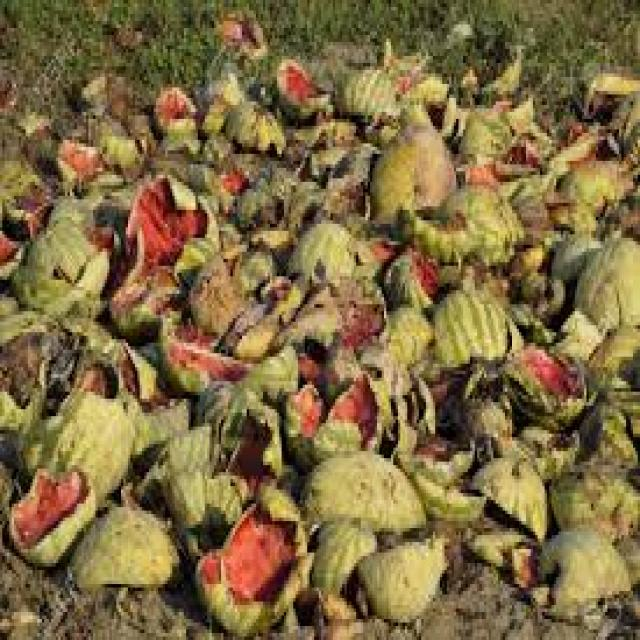organic waste: (188, 476, 312, 636), (5, 374, 126, 518), (505, 521, 626, 619), (65, 493, 189, 588), (296, 455, 424, 542), (126, 413, 210, 542), (121, 172, 216, 284), (284, 360, 384, 462), (2, 455, 96, 563), (274, 280, 354, 406), (365, 112, 454, 224), (461, 437, 552, 546), (352, 532, 452, 626), (491, 322, 591, 416), (0, 301, 70, 434), (14, 220, 107, 315), (544, 458, 638, 546), (152, 314, 258, 392), (58, 308, 151, 392), (428, 280, 505, 378), (575, 231, 638, 350), (284, 213, 375, 290), (435, 178, 517, 259), (542, 154, 626, 227), (232, 154, 324, 220), (228, 269, 296, 357), (365, 297, 433, 385), (128, 384, 189, 482), (289, 140, 370, 213), (468, 521, 535, 609), (193, 462, 261, 546), (591, 322, 638, 441), (230, 336, 302, 412), (407, 455, 475, 528), (186, 248, 249, 326), (536, 115, 608, 182), (456, 381, 517, 458), (335, 59, 398, 130), (109, 266, 177, 329), (388, 192, 468, 245), (582, 70, 638, 143), (414, 518, 466, 594), (270, 52, 328, 119), (88, 186, 142, 256), (0, 154, 47, 234), (377, 241, 433, 308), (331, 63, 394, 122), (0, 290, 61, 346), (605, 80, 638, 182), (400, 437, 475, 479), (89, 115, 140, 175), (224, 98, 282, 150), (505, 175, 547, 245), (46, 189, 102, 238), (547, 308, 593, 367), (223, 231, 277, 280), (54, 137, 107, 186), (218, 3, 260, 63), (151, 80, 198, 130), (493, 126, 540, 175), (456, 101, 503, 150), (158, 116, 205, 164), (293, 115, 363, 147), (193, 374, 230, 423), (214, 150, 256, 192), (0, 102, 28, 164), (500, 84, 538, 129), (484, 56, 521, 101), (377, 35, 419, 73), (42, 108, 84, 144), (403, 70, 442, 105), (16, 119, 49, 157), (616, 524, 638, 580), (0, 227, 21, 280), (79, 66, 100, 119), (435, 91, 454, 129), (454, 66, 470, 91)
